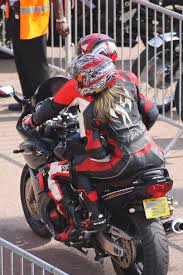helmet: (66, 53, 114, 96)
